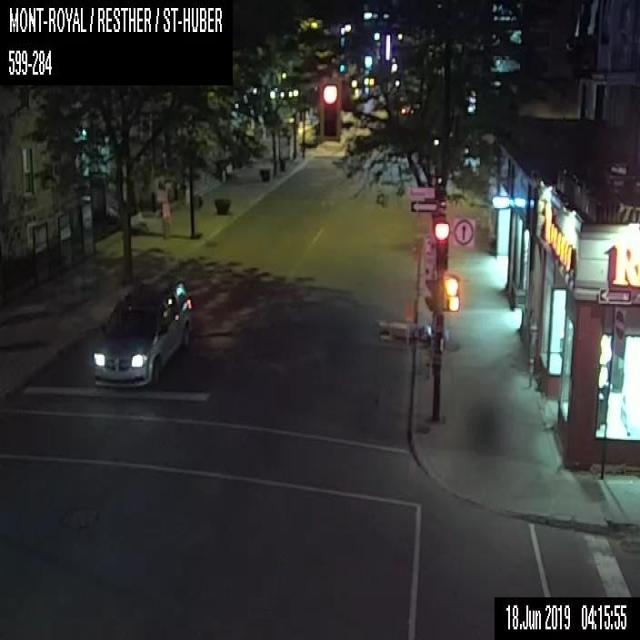vehicle: (90, 276, 192, 388)
